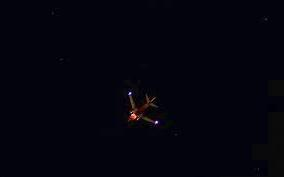Plane: (109, 79, 167, 134)
